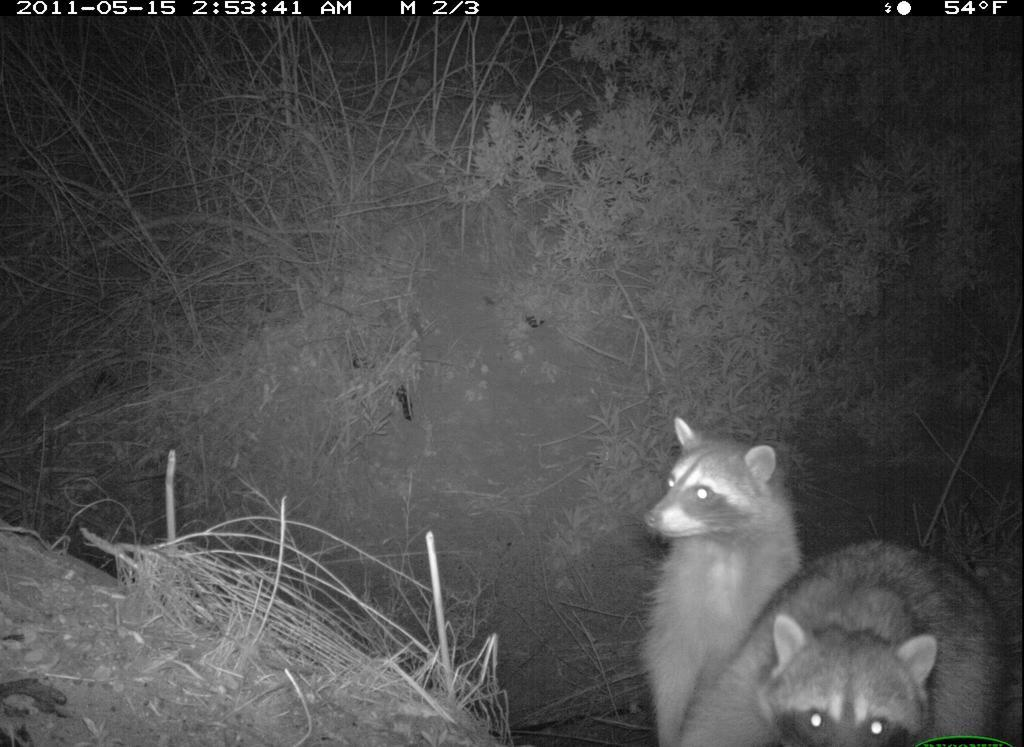raccoon: (616, 397, 818, 745), (719, 536, 1019, 745)
